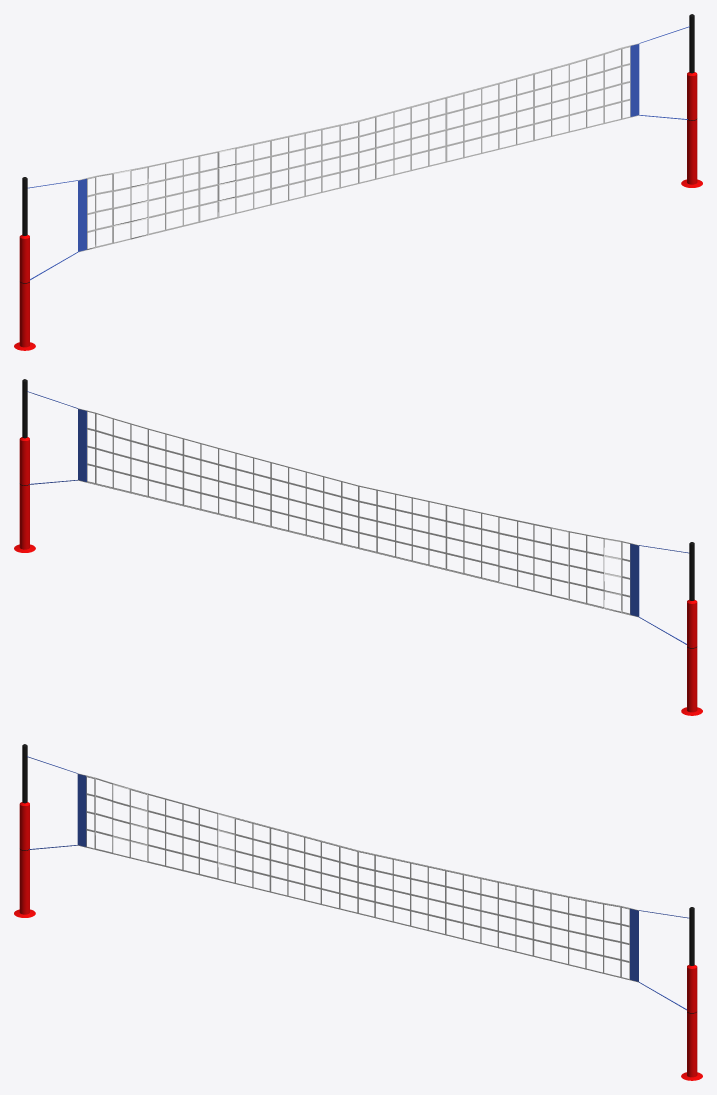
Rendered from prop_net.glb.
3 views of the same model, one above another, from view 1: azimuth 30°, elevation 25°; view 2: azimuth 150°, elevation 25°; view 3: azimuth 330°, elevation 25° (orthographic).
Parts seen in each view (by area): view 1: Net; view 2: Net; view 3: Net.
Boxes of the visible parts, left/top/right/bottom form: Net: left=14, top=14, right=702, bottom=350; Net: left=14, top=379, right=702, bottom=715; Net: left=14, top=744, right=702, bottom=1080.
Size of the model in its own units: 10.7 by 2.52 by 0.2953.
1 material, 1 textured.
